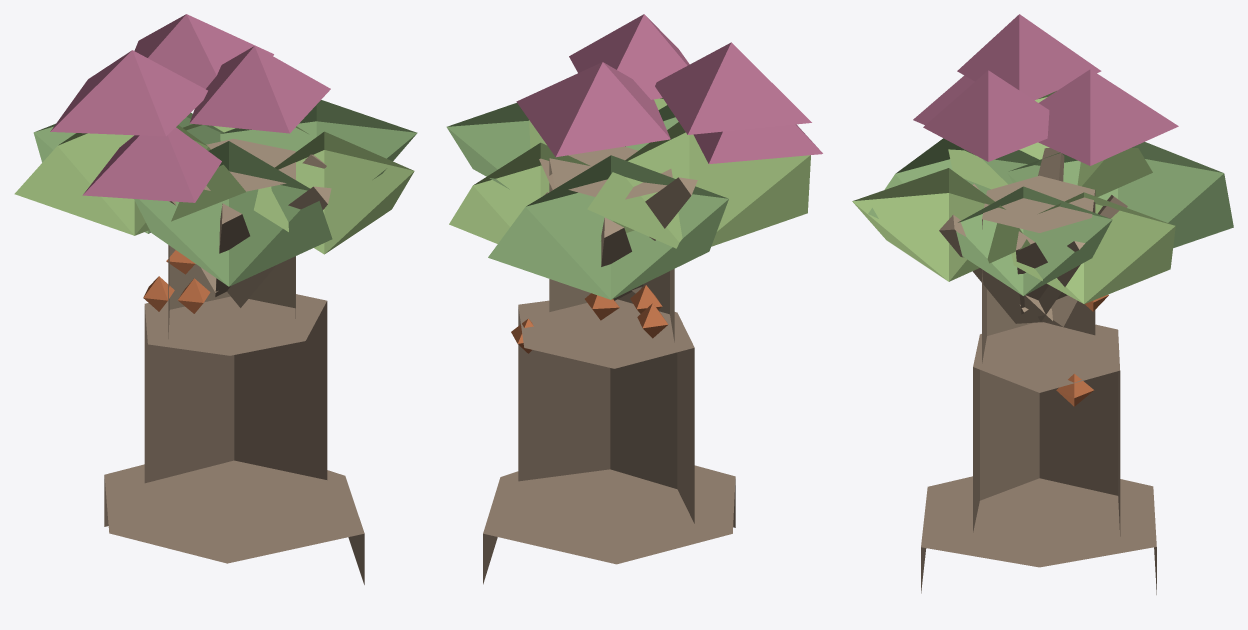
Rendered from tree.trop.baobab__bloom.glb.
3 renders of one model, left to right at view 1: azimuth 30°, elevation 25°; view 2: azimuth 150°, elevation 25°; view 3: azimuth 270°, elevation 25°, orthographic. The views are drawn at different scales.
Visible parts, largest first — view 1: tree.trop.baobab__bloom; view 2: tree.trop.baobab__bloom; view 3: tree.trop.baobab__bloom.
Part boxes in pixels (x1,y1,x2,y2): tree.trop.baobab__bloom: [14, 14, 417, 584]; tree.trop.baobab__bloom: [446, 14, 822, 584]; tree.trop.baobab__bloom: [852, 14, 1233, 594].
Size of the model in its own units: 6.04 by 8.09 by 5.59.
